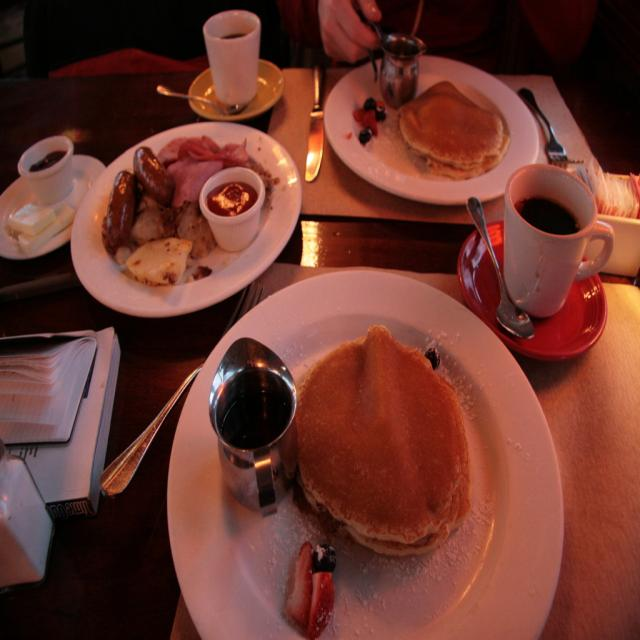Coffee: (508, 162, 604, 328), (220, 33, 246, 39)
Tea: (517, 194, 584, 231), (220, 35, 249, 38)
